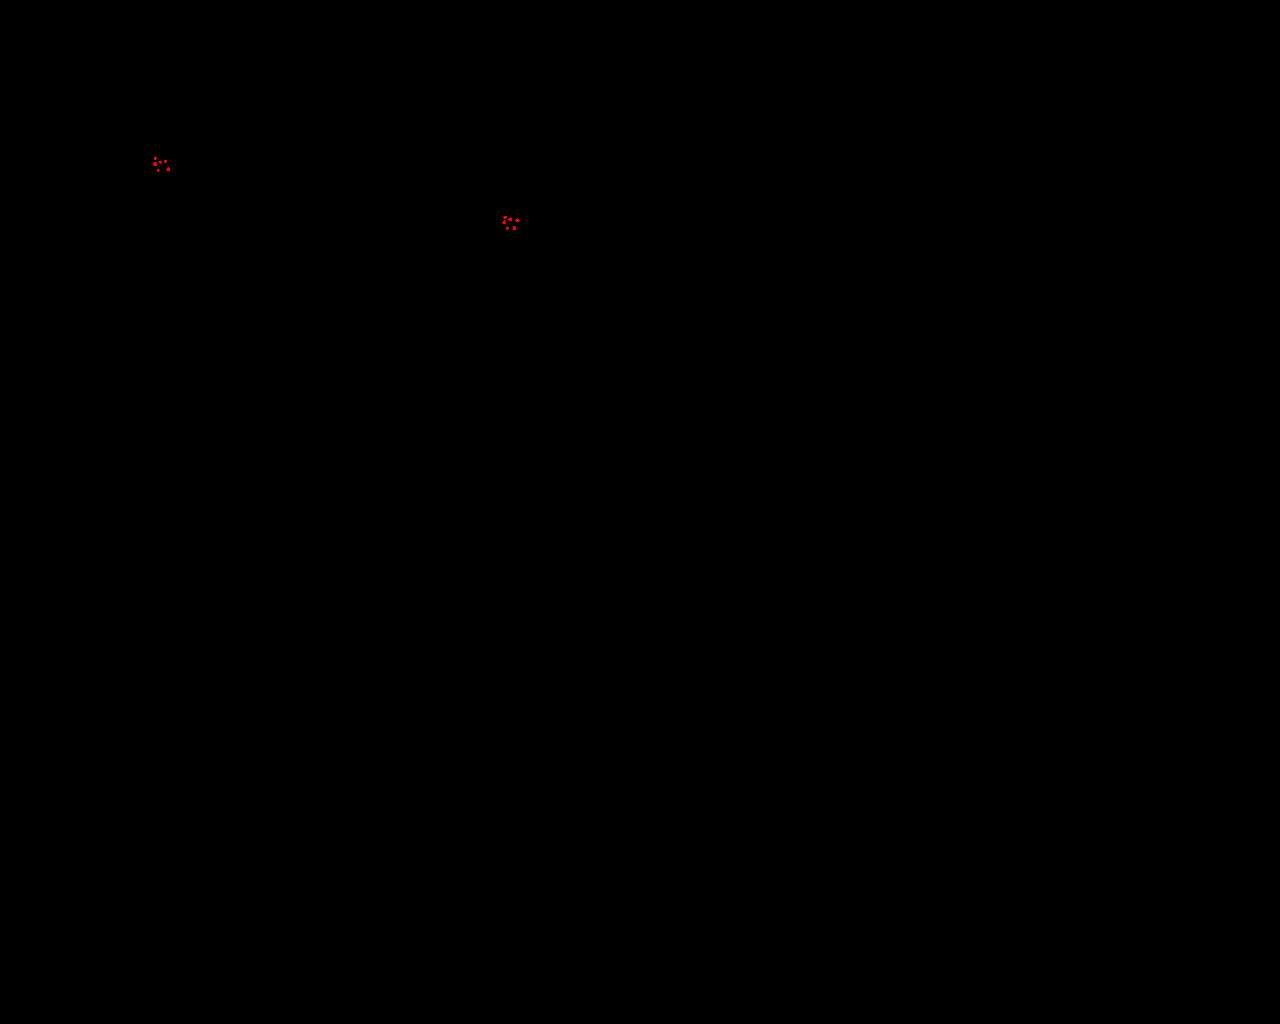Target: (153, 162, 157, 166), (166, 167, 170, 171), (508, 217, 512, 222), (515, 218, 520, 222), (503, 216, 507, 219), (502, 220, 506, 224), (513, 226, 516, 230), (154, 157, 157, 160), (164, 160, 167, 163), (159, 161, 162, 164), (157, 169, 160, 172), (506, 227, 509, 230)
